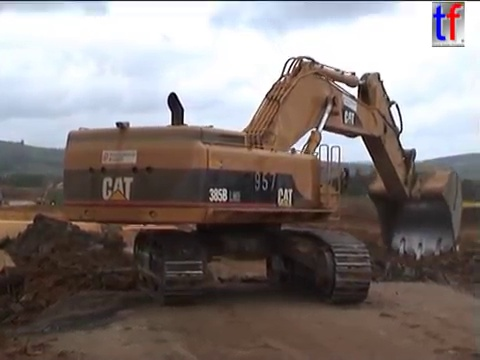excavator: (57, 51, 467, 308)
truck: (1, 219, 165, 333), (112, 220, 202, 291)
